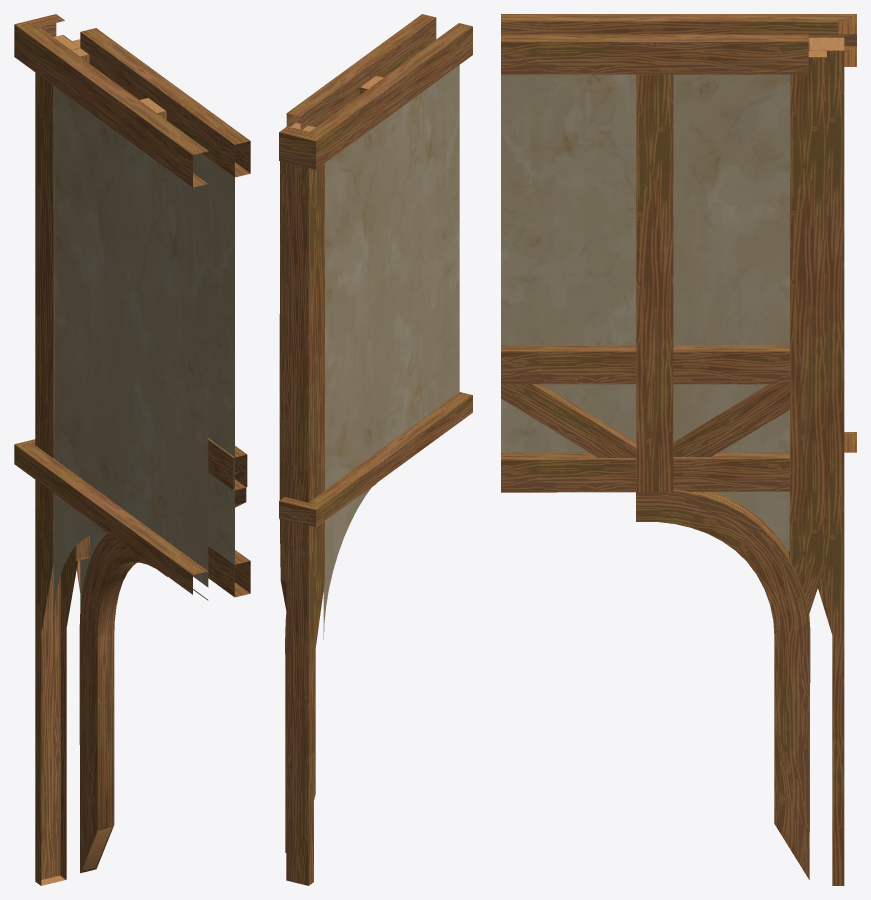
File: Overhang_Side_Plaster_Long_R.gltf
3 views of the same model, side by side, from view 1: azimuth 30°, elevation 25°; view 2: azimuth 150°, elevation 25°; view 3: azimuth 270°, elevation 25° (orthographic). The views are drawn at different scales.
Parts seen in each view (by area): view 1: Overhang_Side_Plaster_Long_R; view 2: Overhang_Side_Plaster_Long_R; view 3: Overhang_Side_Plaster_Long_R.
Boxes of the visible parts, x1=… form: Overhang_Side_Plaster_Long_R: x1=14, y1=14, x2=250, y2=885; Overhang_Side_Plaster_Long_R: x1=279, y1=14, x2=472, y2=885; Overhang_Side_Plaster_Long_R: x1=501, y1=14, x2=856, y2=885.
Bounding box in the file's own units: 0.4793 × 6.12 × 2.31.
Materials: 2 (2 with a texture image).
